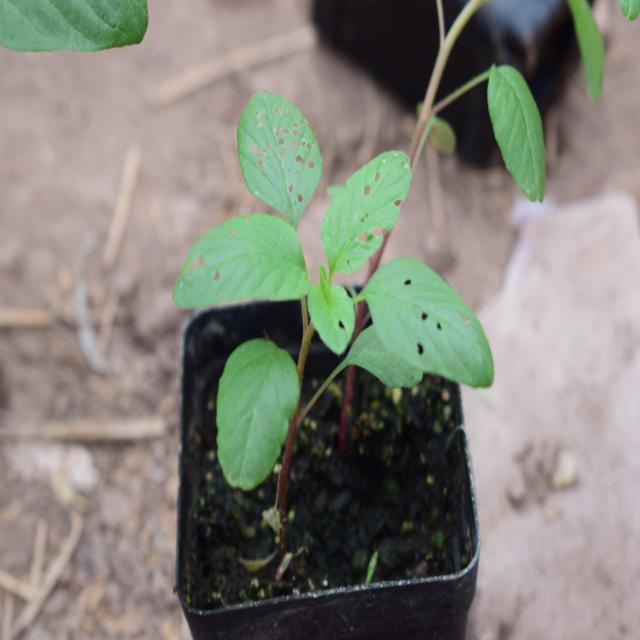pigweed: (188, 102, 474, 440)
